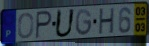6: (118, 6, 132, 35)
G: (74, 8, 93, 37)
H: (98, 7, 116, 36)
O: (17, 12, 35, 40)
P: (34, 9, 53, 40)
U: (54, 9, 77, 39)
